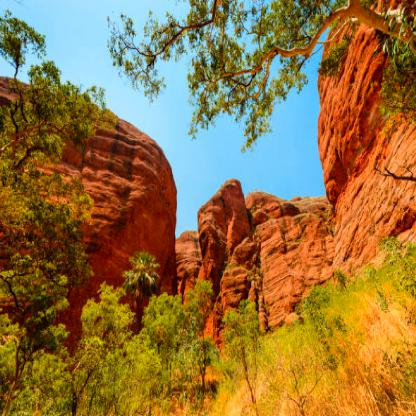Sedimentary_Sandstone: (318, 75, 416, 244), (97, 137, 176, 248), (243, 188, 349, 269), (193, 178, 252, 282)
